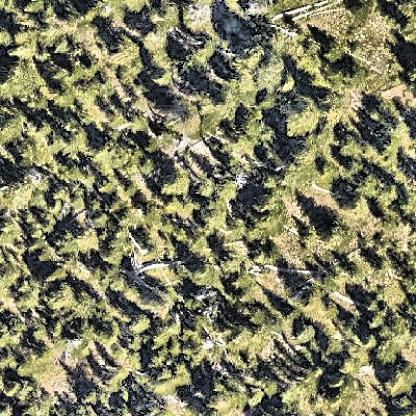tree-top: (12, 119, 64, 172), (246, 186, 291, 234), (0, 56, 45, 102), (206, 376, 257, 416), (0, 168, 45, 213), (14, 274, 66, 312), (279, 96, 322, 140), (253, 51, 293, 93), (233, 104, 274, 143), (293, 32, 329, 76), (138, 24, 175, 61), (356, 170, 393, 206), (178, 0, 217, 34), (48, 278, 83, 315), (322, 219, 359, 254), (380, 361, 415, 397), (182, 34, 219, 68), (106, 34, 142, 68), (366, 178, 402, 212), (26, 226, 58, 263), (94, 134, 133, 164), (58, 327, 91, 362), (323, 372, 355, 408), (180, 326, 212, 362), (66, 224, 101, 256), (375, 277, 409, 309), (138, 314, 172, 346), (11, 276, 42, 311), (148, 0, 182, 31), (48, 78, 79, 112), (11, 349, 46, 379), (160, 167, 192, 198), (328, 62, 362, 91), (148, 319, 178, 351), (396, 0, 416, 47), (144, 398, 195, 416), (100, 236, 131, 265), (58, 124, 90, 152), (0, 108, 24, 143), (165, 358, 193, 388), (137, 230, 165, 259), (45, 184, 72, 214), (361, 302, 388, 331), (0, 314, 27, 343), (0, 210, 23, 244), (36, 22, 64, 49), (363, 141, 391, 168), (108, 273, 137, 299), (374, 337, 401, 364), (198, 206, 225, 233), (73, 56, 102, 81), (192, 174, 218, 201), (341, 341, 368, 367), (67, 161, 94, 187), (190, 259, 216, 286), (144, 200, 171, 226), (103, 365, 132, 389), (238, 37, 262, 66), (276, 378, 302, 404), (250, 243, 276, 268), (344, 0, 374, 21), (396, 186, 416, 217), (289, 141, 317, 163), (96, 320, 121, 344), (314, 156, 340, 179), (126, 110, 152, 133), (115, 209, 142, 231), (217, 85, 242, 108), (0, 374, 25, 397), (129, 312, 152, 336), (298, 287, 322, 310), (324, 43, 348, 66), (19, 0, 49, 18), (292, 321, 315, 344), (227, 326, 248, 351), (95, 173, 118, 195), (114, 1, 155, 13), (381, 119, 403, 141), (244, 304, 266, 326), (188, 235, 210, 257), (74, 6, 97, 27), (151, 66, 175, 86), (338, 131, 356, 156), (82, 191, 102, 213), (320, 301, 341, 320), (0, 350, 18, 372), (0, 23, 14, 50), (337, 354, 356, 373), (322, 336, 340, 356), (80, 388, 100, 406), (140, 152, 158, 172), (395, 397, 416, 414), (226, 272, 244, 291), (0, 397, 17, 416)
